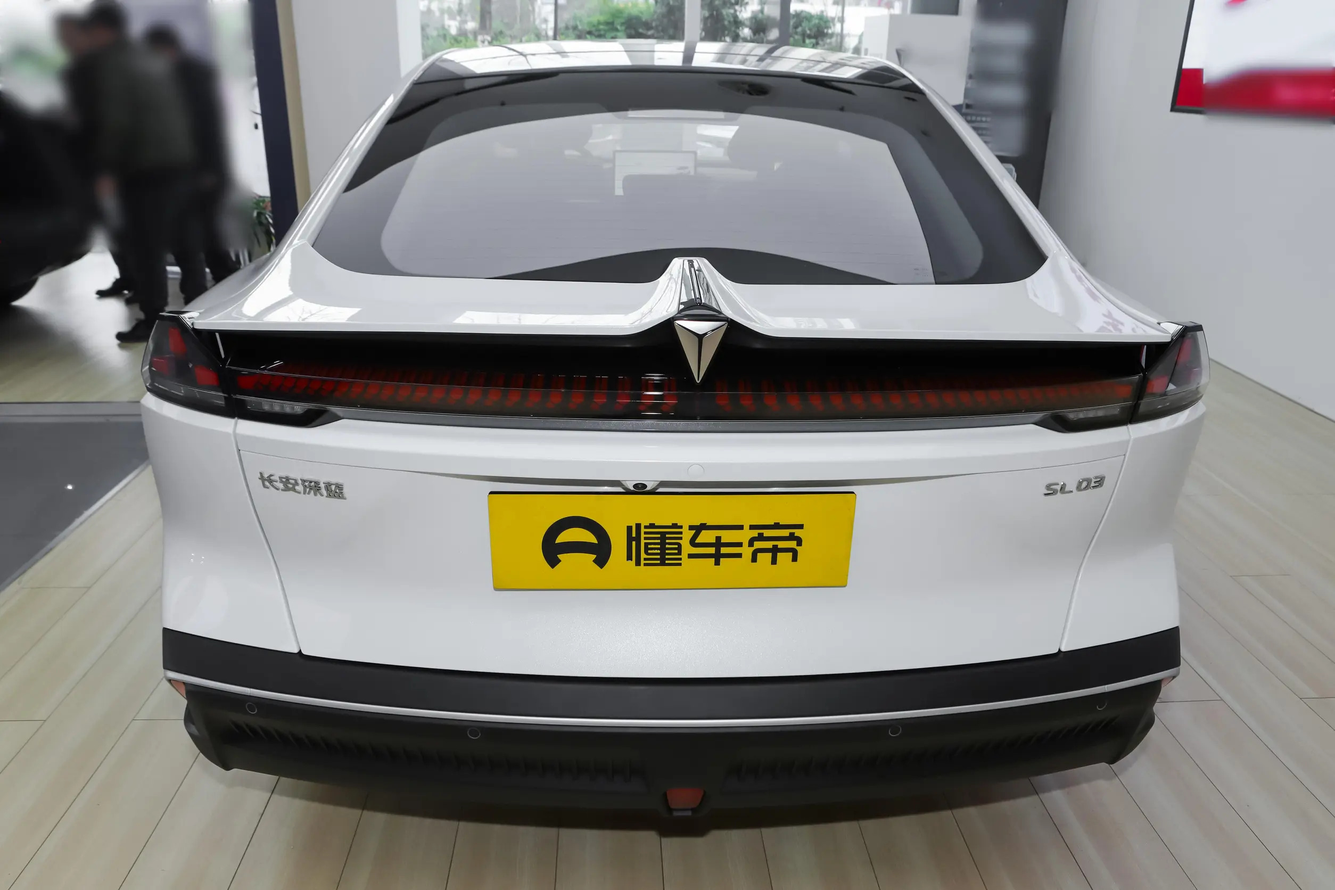Deepal: (674, 320, 728, 382)
